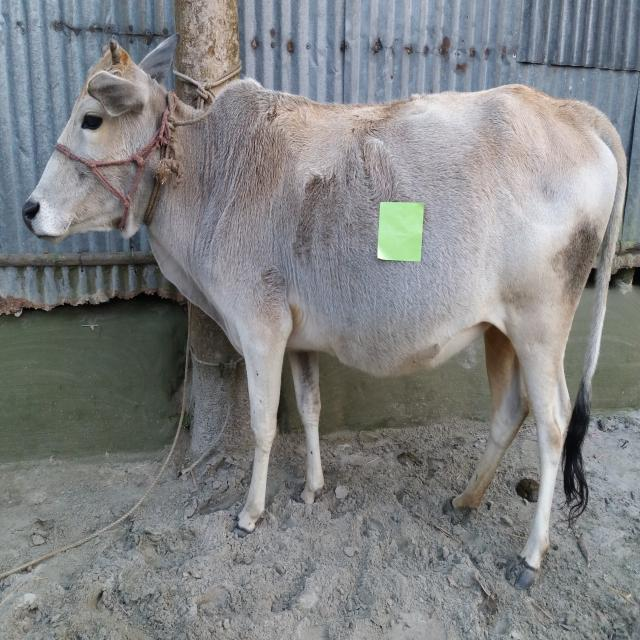badan_sapi: (242, 103, 592, 370)
sapi: (25, 27, 630, 590)
